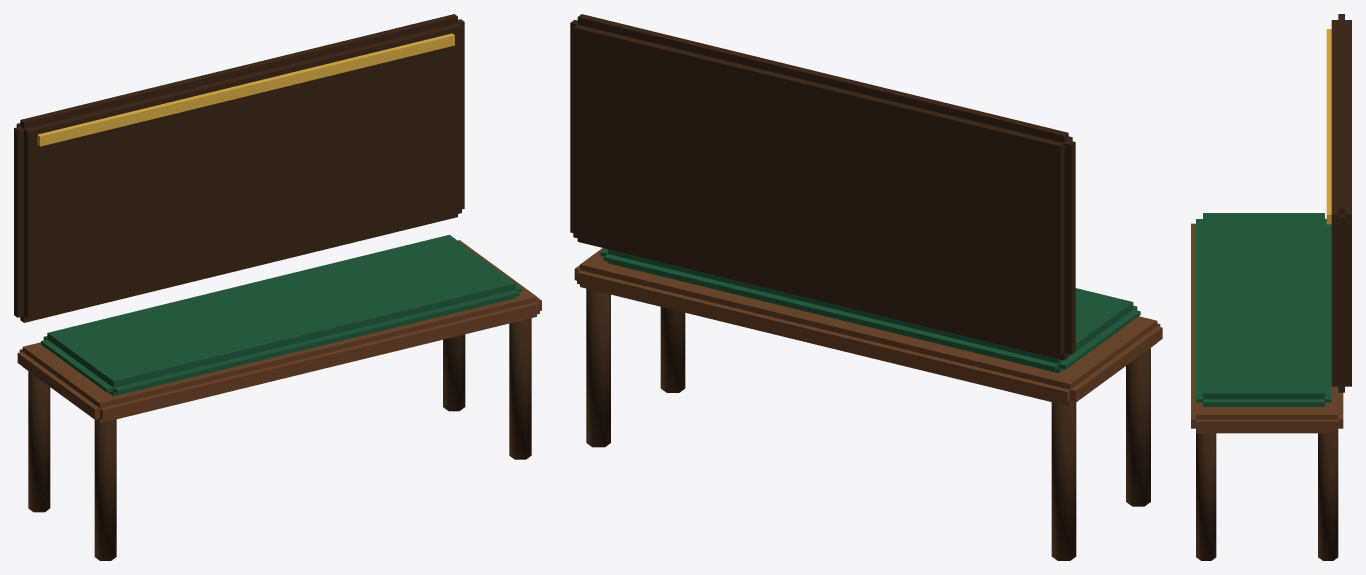
Rendered from elven-bench.glb.
3 views of the same model, side by side, from view 1: azimuth 30°, elevation 25°; view 2: azimuth 150°, elevation 25°; view 3: azimuth 270°, elevation 25° (orthographic). The views are drawn at different scales.
Visible parts, largest first — view 1: Model Mesh; view 2: Model Mesh; view 3: Model Mesh.
Part boxes in pixels (<box>): Model Mesh: <box>14,14,541,560</box>; Model Mesh: <box>570,14,1162,560</box>; Model Mesh: <box>1191,14,1351,560</box>.
Bounding box in the file's own units: 1.4 × 1.15 × 0.475.
